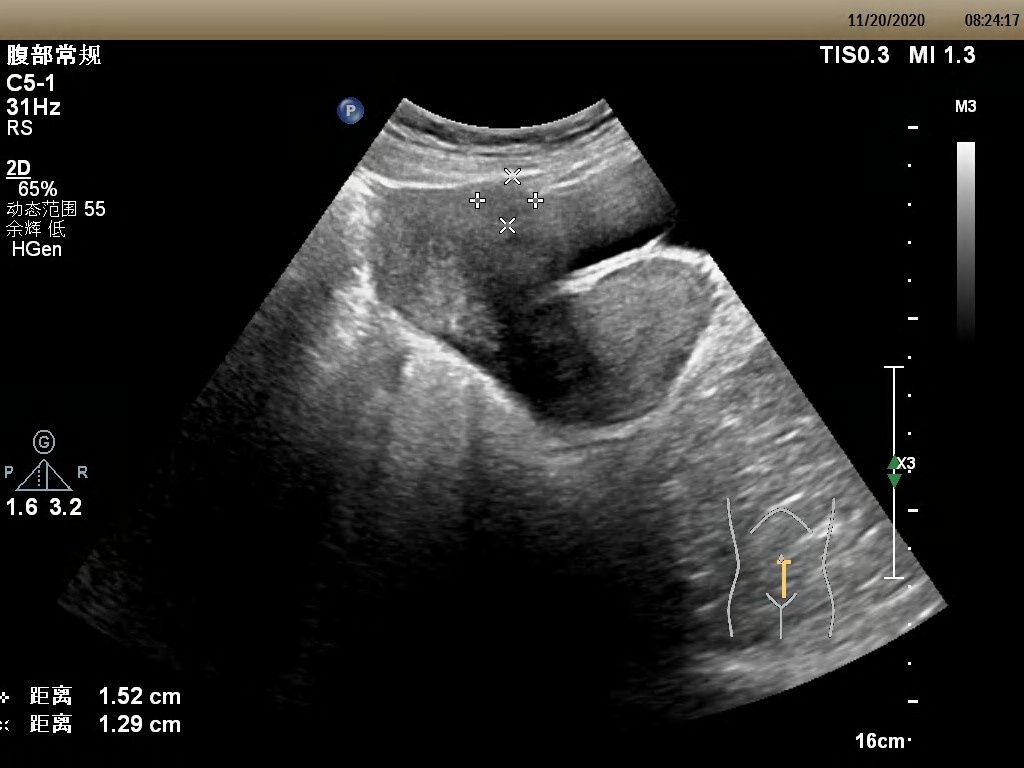肌瘤: (476, 181, 538, 225)
